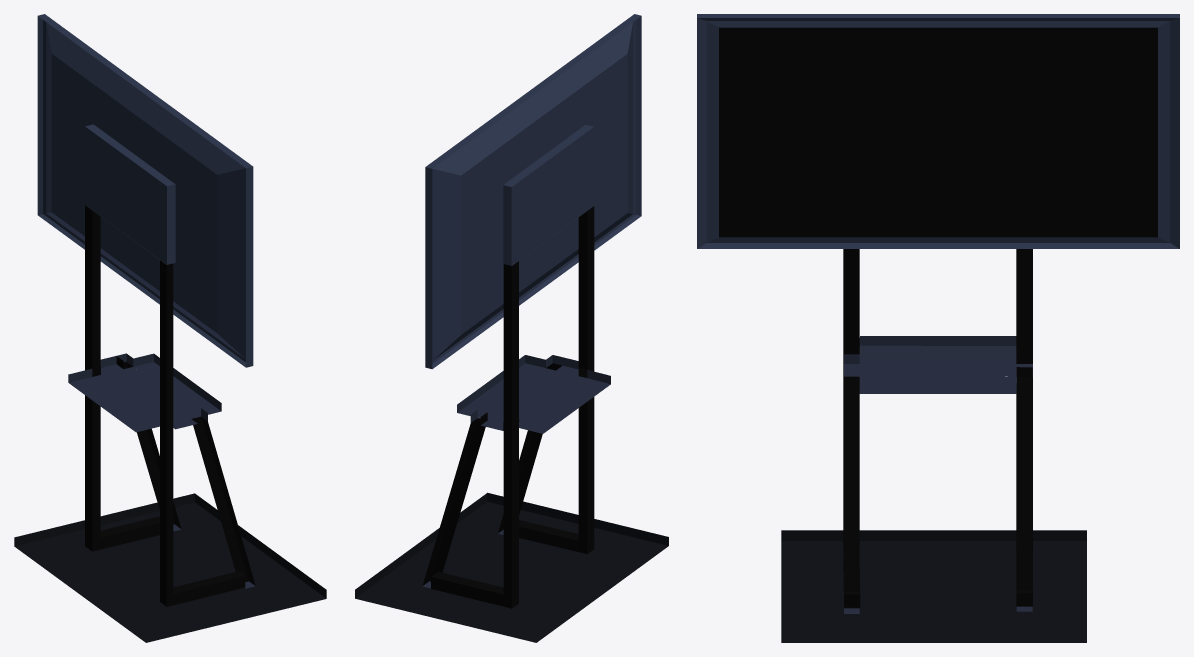
The model's file is tvLabFix.fbx.
The picture shows the model from 3 angles, left to right: view 1: azimuth 30°, elevation 25°; view 2: azimuth 150°, elevation 25°; view 3: azimuth 270°, elevation 25°; orthographic projection. The views are drawn at different scales.
Visible parts, largest first — view 1: Cube.001; view 2: Cube.001; view 3: Cube.001.
Boxes of the visible parts, x1,y1,x2,y2 form: Cube.001: (14,14,326,642); Cube.001: (355,14,668,642); Cube.001: (697,14,1179,642).
Size of the model in its own units: 94.75 by 243 by 189.
